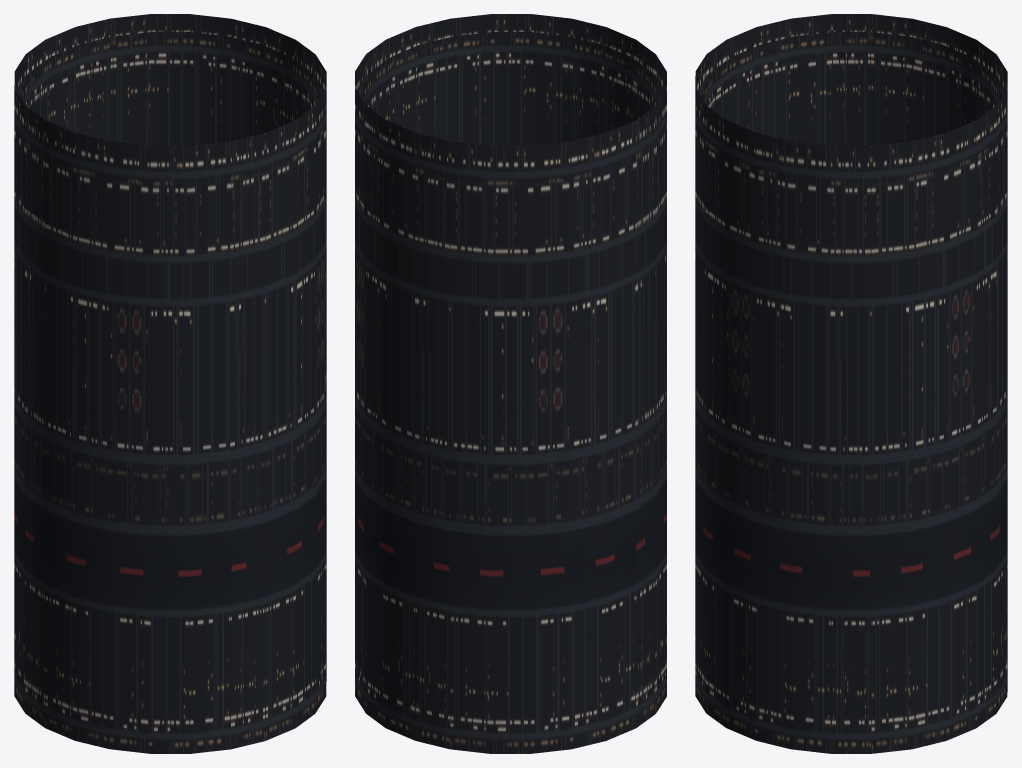
The model's file is env_besp_platform_01_pre.glb.
3 renders of one model, left to right at view 1: azimuth 30°, elevation 25°; view 2: azimuth 150°, elevation 25°; view 3: azimuth 270°, elevation 25°, orthographic.
Parts seen in each view (by area): view 1: skybox_cylinder_01_mesh, skybox_cylinder_01_mesh (1); view 2: skybox_cylinder_01_mesh, skybox_cylinder_01_mesh (1); view 3: skybox_cylinder_01_mesh, skybox_cylinder_01_mesh (1).
Boxes of the visible parts, <box> form: skybox_cylinder_01_mesh: <box>14,14,326,753</box>; skybox_cylinder_01_mesh (1): <box>22,32,318,145</box>; skybox_cylinder_01_mesh: <box>355,14,666,753</box>; skybox_cylinder_01_mesh (1): <box>362,32,658,145</box>; skybox_cylinder_01_mesh: <box>695,14,1007,753</box>; skybox_cylinder_01_mesh (1): <box>703,32,999,145</box>.
Bounding box in the file's own units: 175 × 376 × 175.
7 materials, 7 textured.
